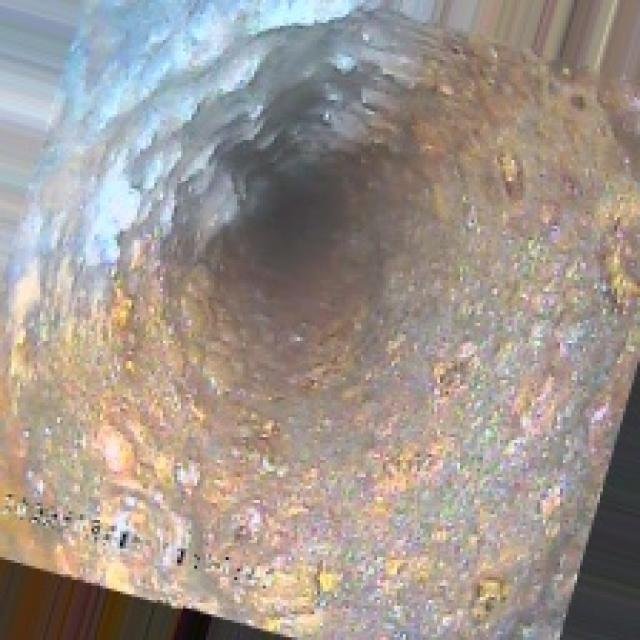encrustation: (66, 6, 548, 448)
